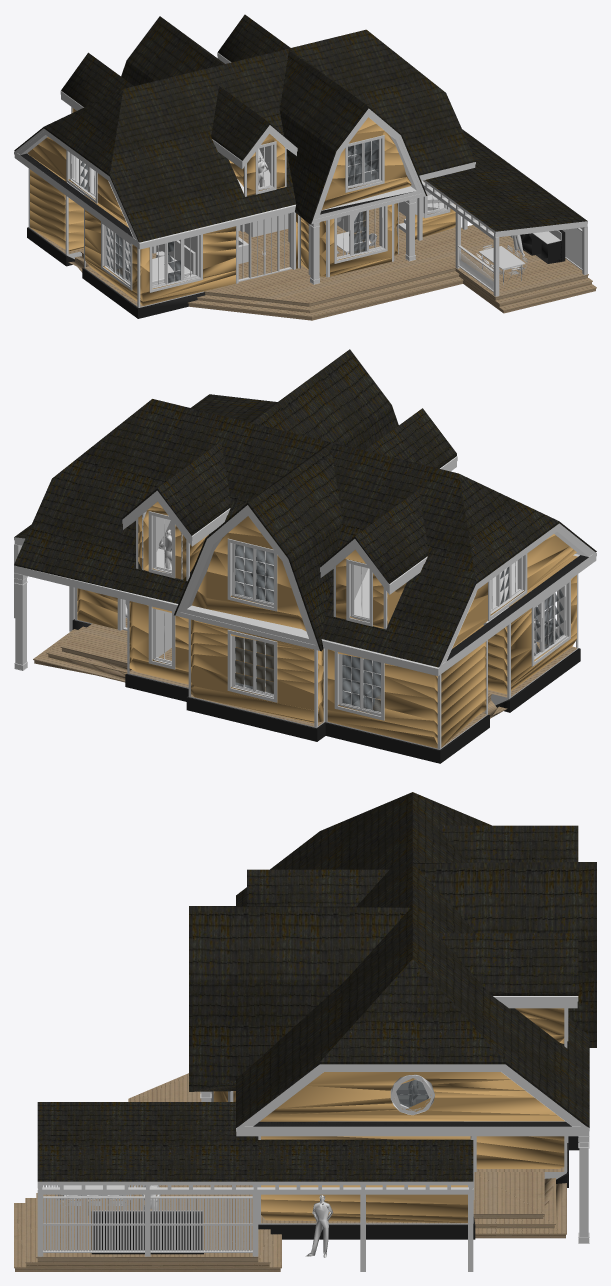
The model's file is suburban-bogdan.far.glb.
3 views of the same model, one above another, from view 1: azimuth 30°, elevation 25°; view 2: azimuth 150°, elevation 25°; view 3: azimuth 270°, elevation 25° (orthographic). The views are drawn at different scales.
Parts seen in each view (by area): view 1: roof_roof_0, white_white_0, floor_floor_0, siding_siding_0, object 3, glass_glass_0; view 2: roof_roof_0, siding_siding_0, white_white_0, object 3, glass_glass_0, floor_floor_0; view 3: roof_roof_0, white_white_0, siding_siding_0, floor_floor_0, object 3, glass_glass_0.
Part boxes in pixels (bbox=[...]): roof_roof_0: bbox=[14, 14, 587, 242]; white_white_0: bbox=[14, 52, 587, 307]; floor_floor_0: bbox=[30, 208, 596, 320]; siding_siding_0: bbox=[27, 108, 455, 305]; object 3: bbox=[20, 153, 565, 318]; glass_glass_0: bbox=[80, 139, 378, 283]; roof_roof_0: bbox=[14, 349, 596, 667]; siding_siding_0: bbox=[77, 501, 577, 748]; white_white_0: bbox=[14, 456, 596, 749]; object 3: bbox=[72, 555, 588, 763]; glass_glass_0: bbox=[235, 544, 563, 711]; floor_floor_0: bbox=[33, 618, 576, 748]; roof_roof_0: bbox=[37, 792, 596, 1181]; white_white_0: bbox=[37, 996, 589, 1271]; siding_siding_0: bbox=[213, 1008, 564, 1222]; floor_floor_0: bbox=[14, 1073, 566, 1271]; object 3: bbox=[91, 1121, 579, 1254]; glass_glass_0: bbox=[396, 1080, 428, 1107].
Size of the model in its own units: 16.43 by 7.45 by 15.58.
6 materials, 2 textured.
